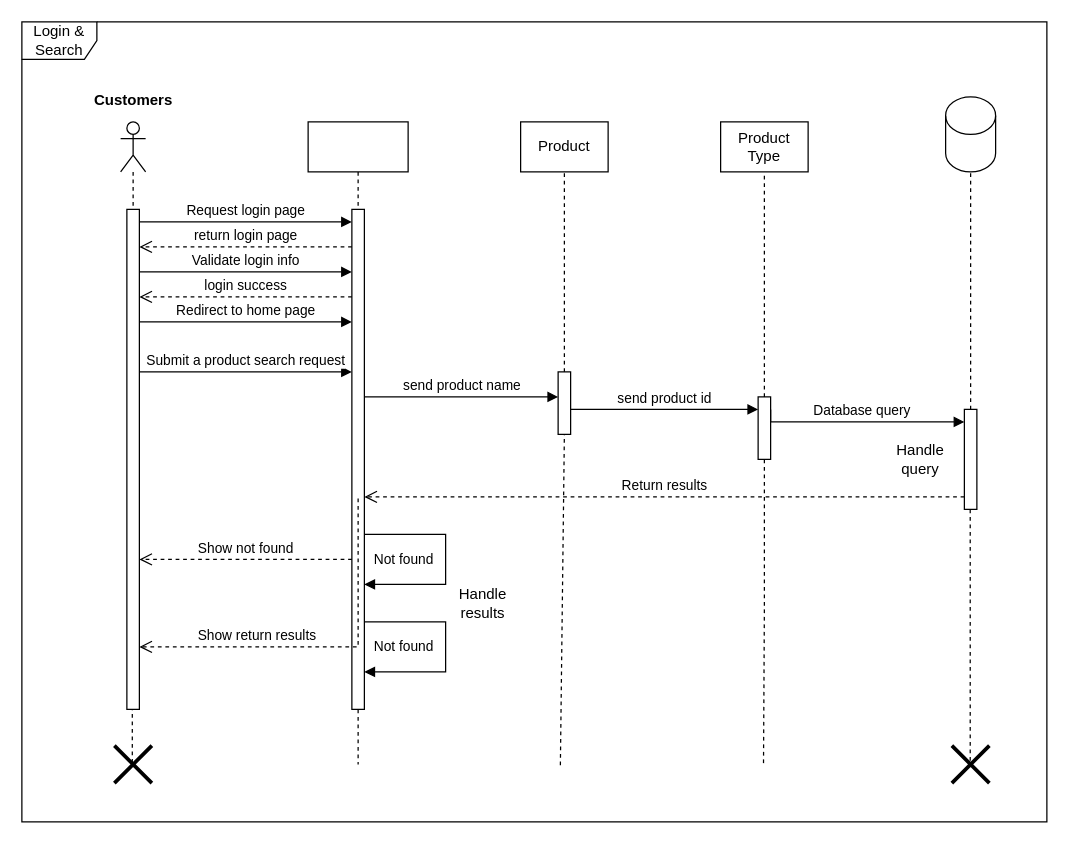
This 1069x844 diagram has some shape labels left out. The shapes that lost their labels are listed below. From the top down, each one's centre as x and y in pixels, then its label:
At point 970,134: "Data base".
At point 357,165: "System".
